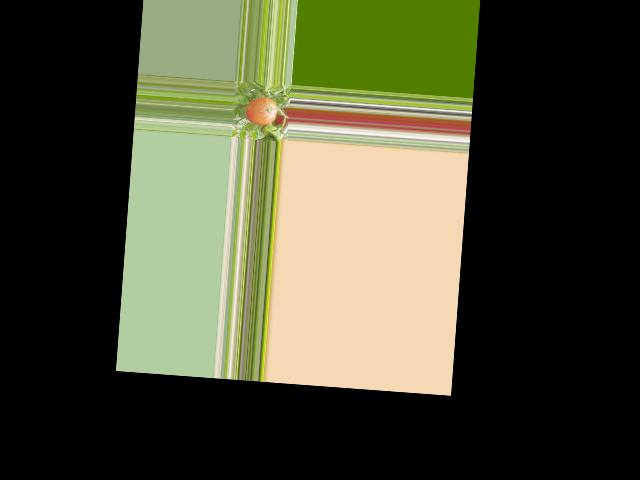tomato: (245, 95, 278, 125)
